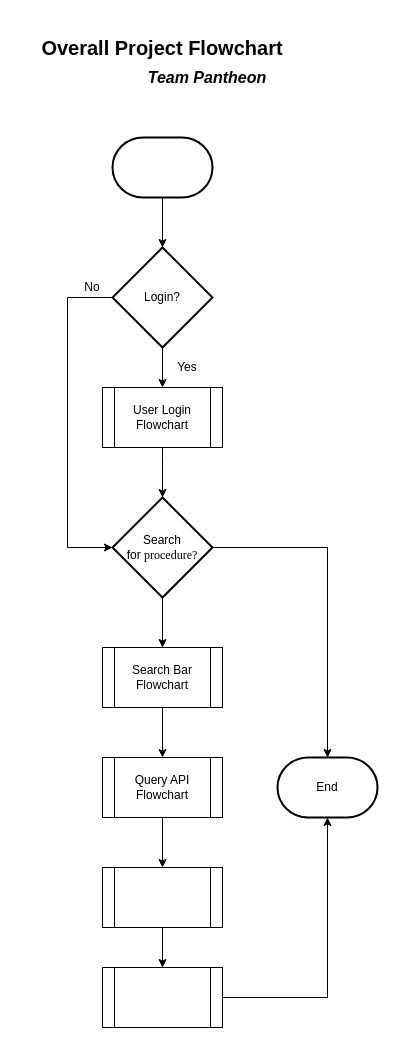
This 395x1045 diagram has some shape labels left out. Each missing label, with the centre of its shape:
"Database Flowchart" belongs at (162,897).
"Results Flowchart" belongs at (162,997).
"Start" belongs at (162,167).
